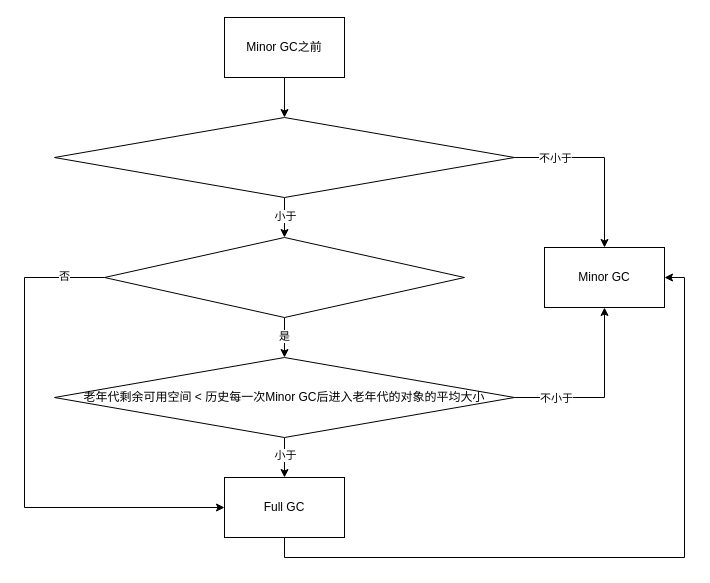
Image size: 710x583. Some labels were removed from this diagram. The centre of each missing label's shape, as x and y in pixels:
"是否设置-XX:-HandlePromotionFailure参数" belongs at point (284, 277).
"老年代剩余可用空间 < 年轻代中现有的所有对象占用空间" belongs at point (284, 157).
